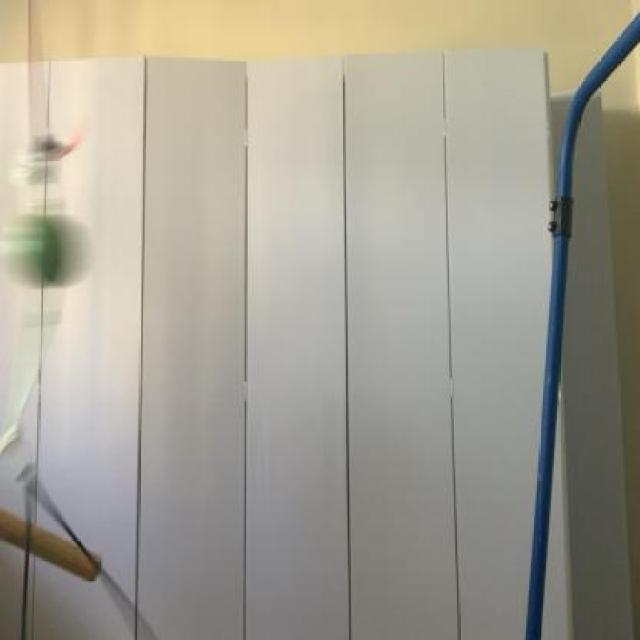baseball: (0, 203, 100, 305)
